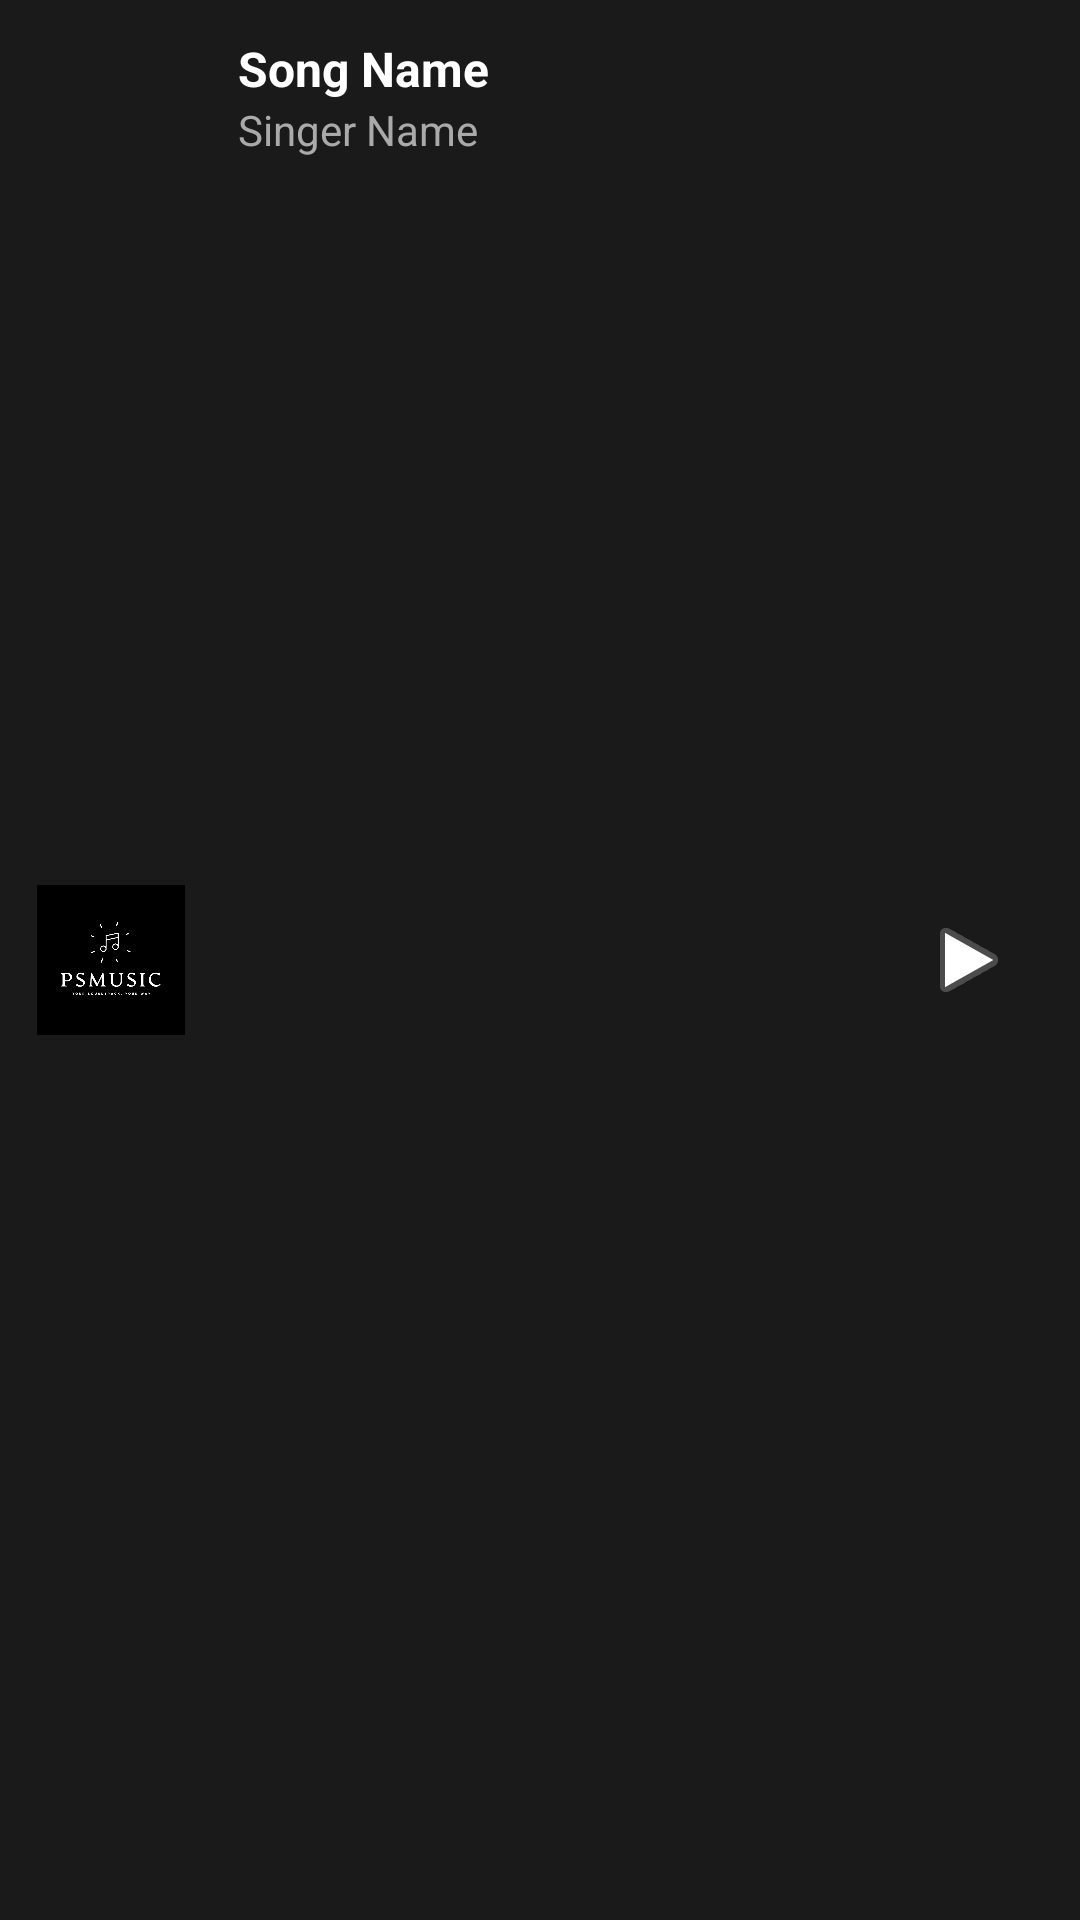

Screen size 1080×1920. Icon name, then its box in pixels as (x1, y1, x2, y2):
Play/Pause Button: (940, 928, 998, 992)
